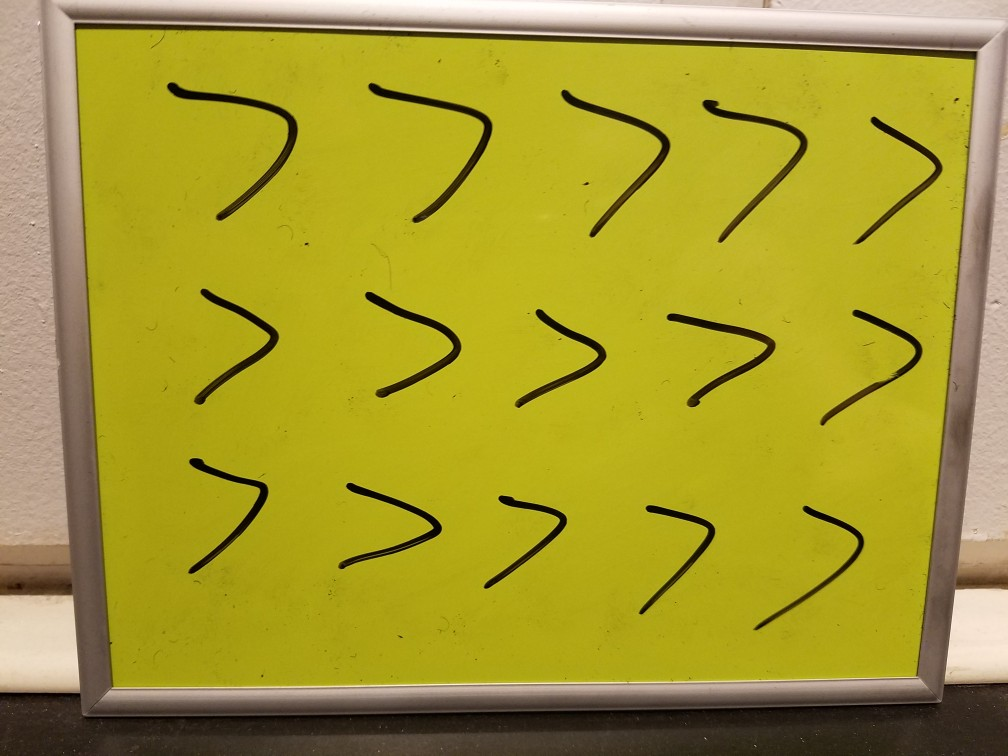>: (341, 62, 498, 235), (154, 248, 306, 423), (793, 279, 942, 450), (545, 58, 674, 250), (752, 468, 882, 656), (689, 68, 820, 248), (603, 475, 745, 640), (153, 60, 299, 216), (157, 427, 298, 587), (312, 439, 454, 597), (448, 450, 585, 611), (339, 270, 477, 424), (500, 276, 627, 427), (653, 288, 780, 430), (841, 85, 942, 253)
